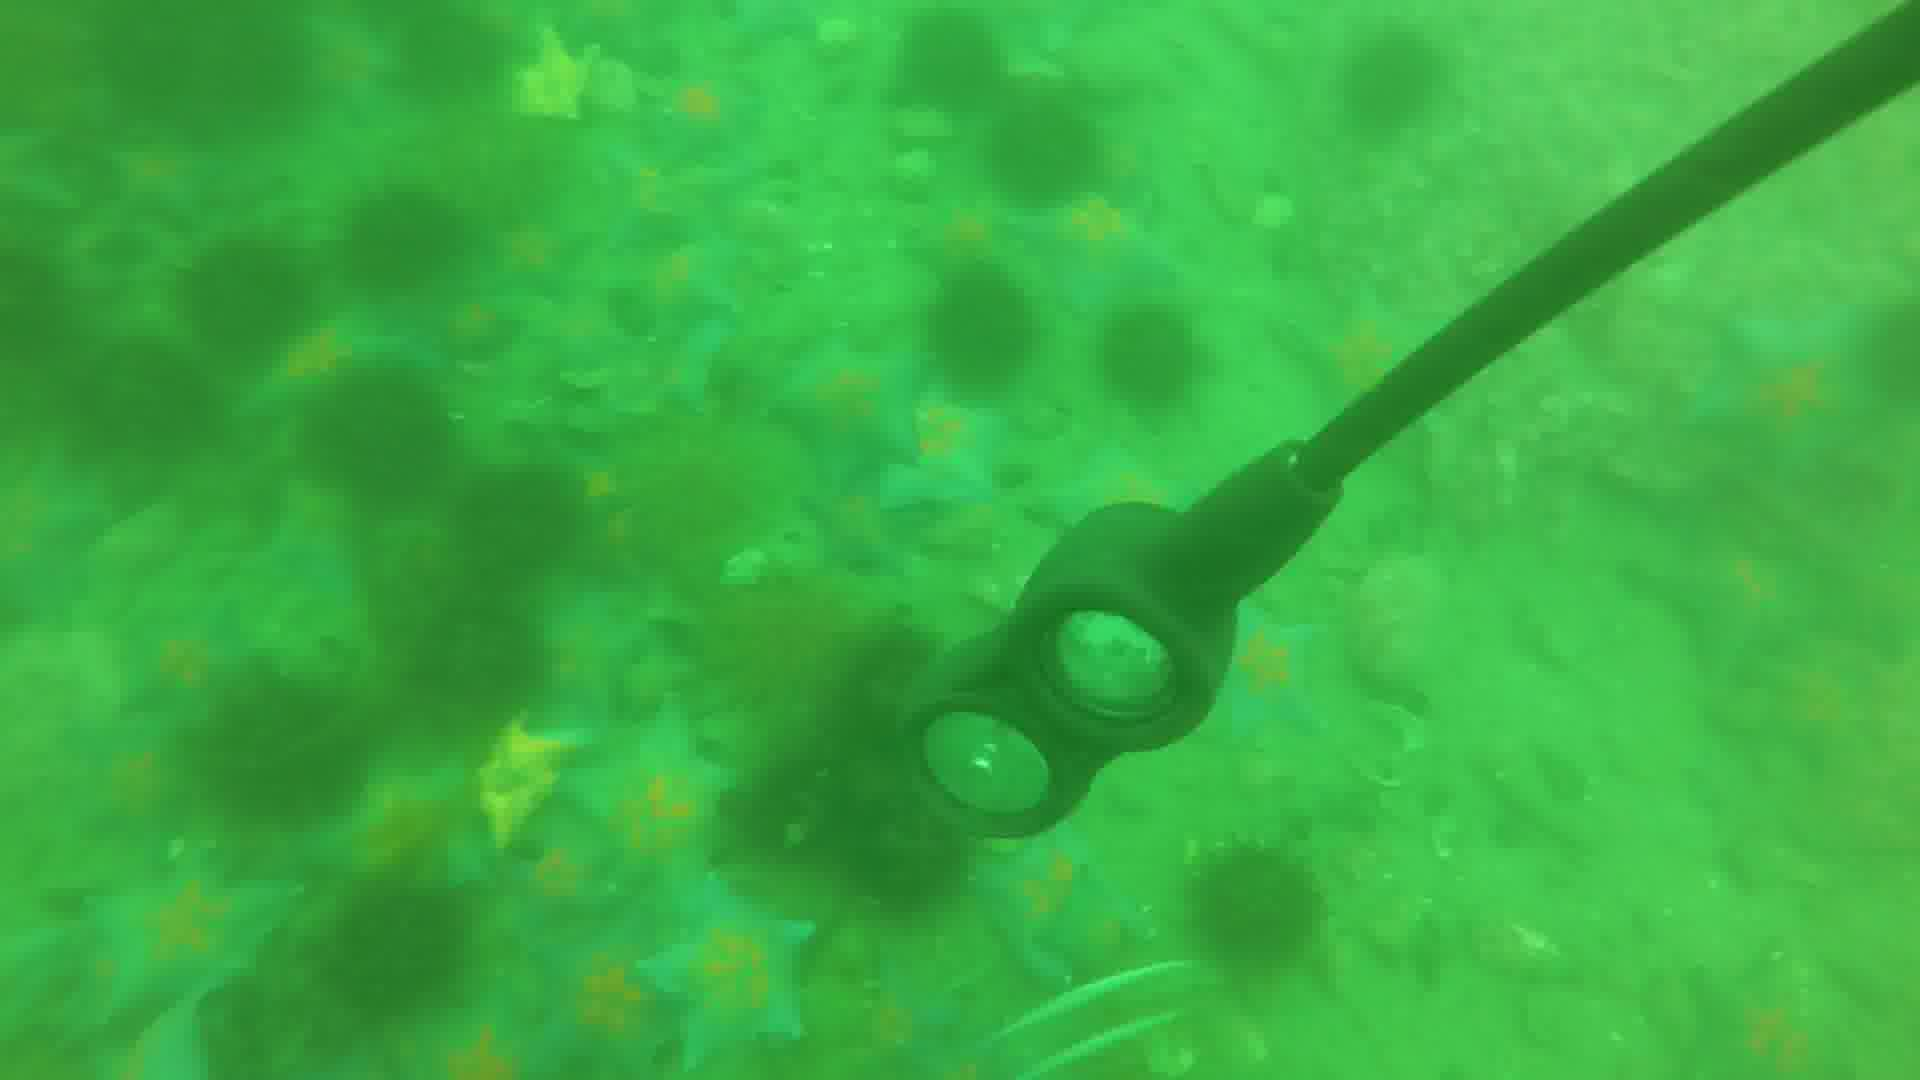echinus: (200, 673, 371, 829), (119, 7, 302, 120), (302, 375, 454, 496), (1189, 849, 1325, 980), (727, 748, 866, 868), (339, 880, 465, 1011), (181, 237, 306, 361), (86, 343, 206, 463), (455, 465, 576, 571), (844, 625, 945, 750), (852, 802, 956, 922), (343, 185, 462, 287), (426, 609, 538, 716), (986, 104, 1106, 200), (947, 274, 1031, 392), (392, 17, 506, 98), (1102, 309, 1188, 407), (898, 15, 993, 98), (1344, 33, 1429, 123)
starfish: (630, 878, 835, 1068), (76, 856, 295, 1009), (1702, 301, 1861, 492), (568, 698, 735, 878), (975, 835, 1155, 996), (1654, 525, 1836, 663), (516, 928, 676, 1080), (1013, 193, 1185, 310), (1043, 454, 1189, 578), (1222, 603, 1352, 742), (1, 444, 100, 625), (783, 347, 918, 476), (607, 123, 741, 240), (133, 617, 277, 727), (264, 469, 385, 596), (418, 976, 563, 1080), (885, 390, 1014, 498), (818, 468, 936, 582), (73, 737, 193, 845), (531, 599, 644, 711), (589, 318, 735, 404), (864, 972, 948, 1080), (637, 236, 738, 306)
